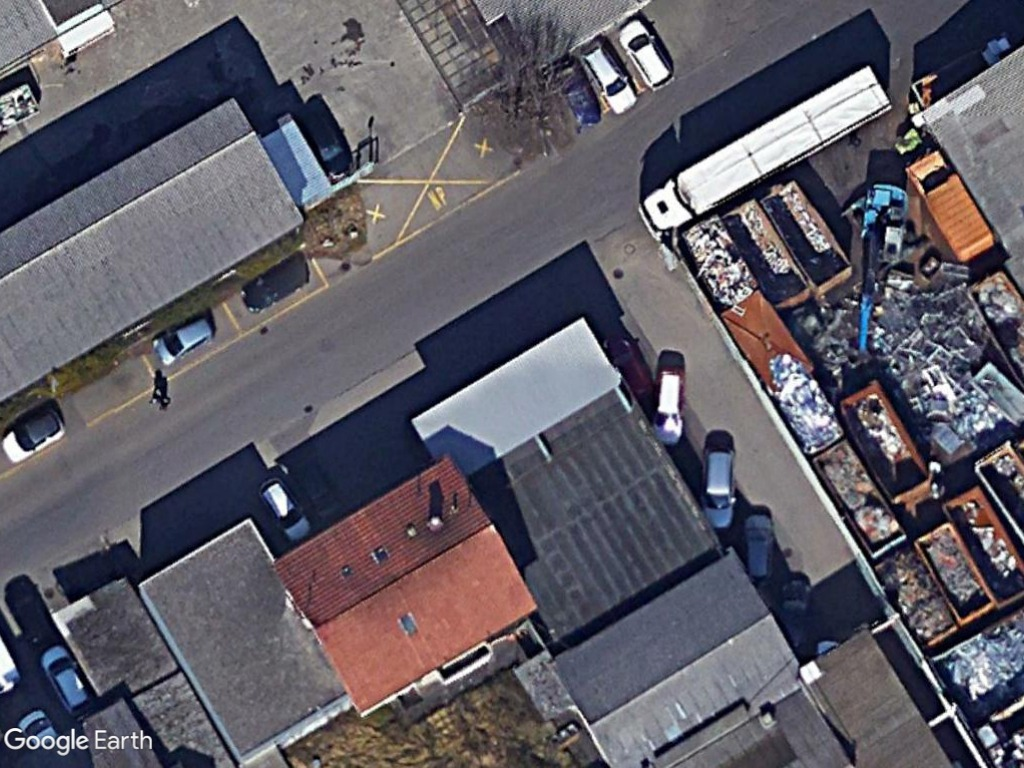car: (576, 40, 641, 118), (613, 18, 678, 90), (37, 642, 95, 719), (253, 475, 315, 546), (0, 405, 68, 467), (150, 312, 216, 369), (698, 442, 738, 530), (649, 363, 690, 447)
longvehicle: (635, 64, 892, 244)
